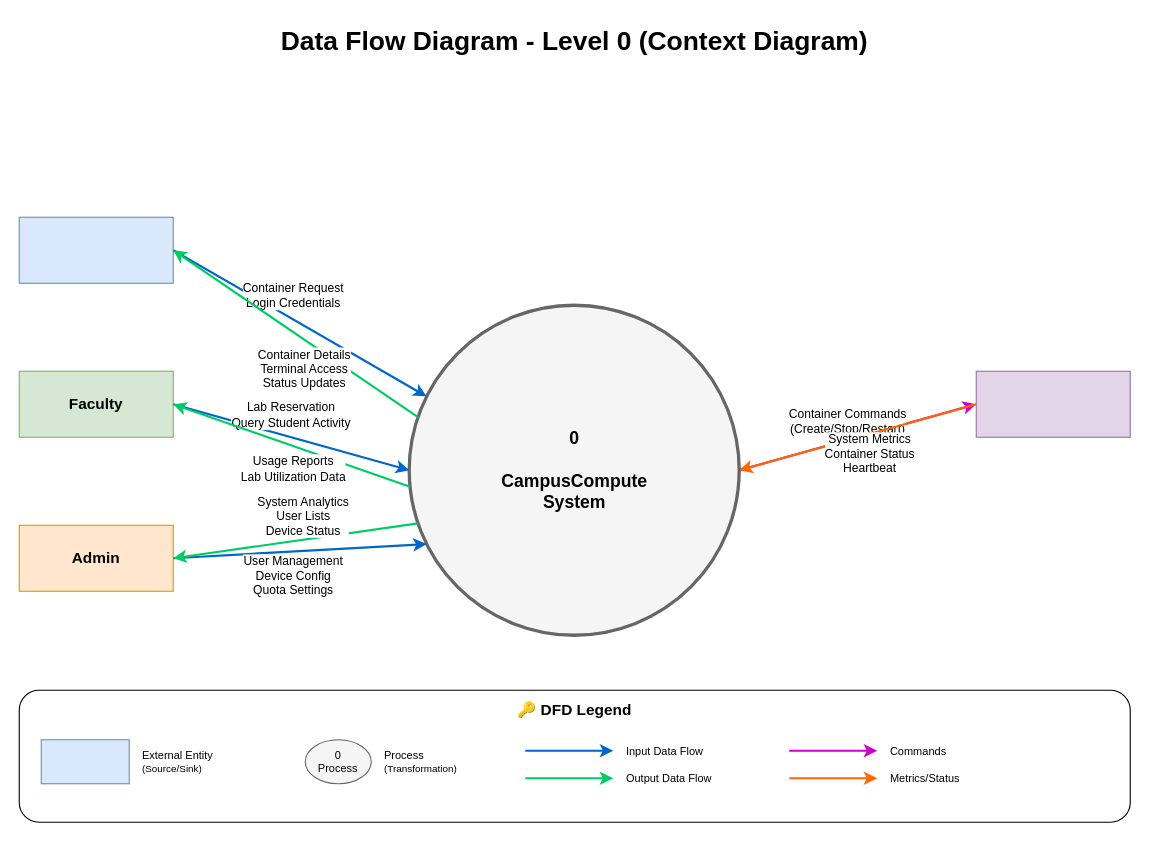
The diagram is 1150 pixels wide and 842 high, and some of its shapes have lost their labels. Each missing label, with the box of its shape:
Lab Computer Agent: (975, 370, 1130, 437)
Student: (18, 216, 173, 283)
